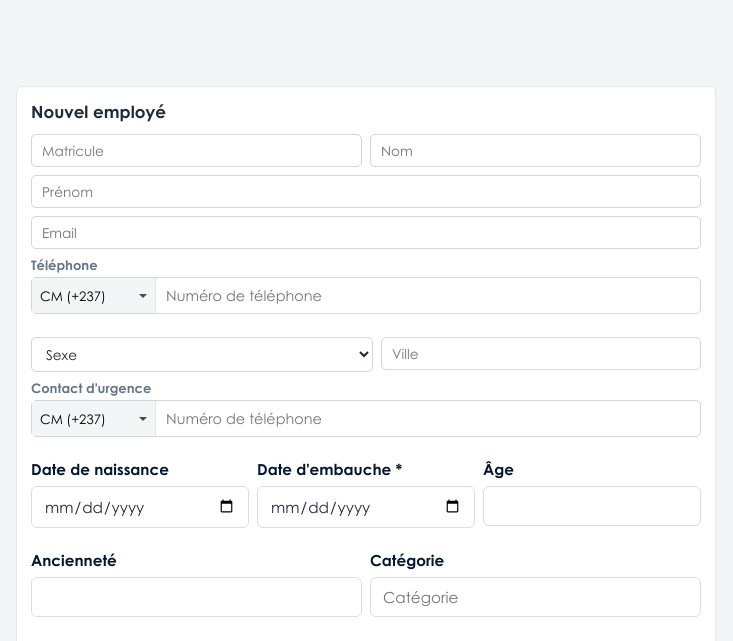
Test case: EmployeeForm › phone country code dropdown shows a short selected label and saves code+space+number
The width and height of the screenshot is (733, 641).
expect the button with aria-label "choisir le code pays" reads "CM (+237)": met, box [32, 278, 156, 313]
Type "699228877" into the field with placeholder "Numéro de téléphone" below "Téléphone" at (428, 296), box [156, 278, 700, 313]
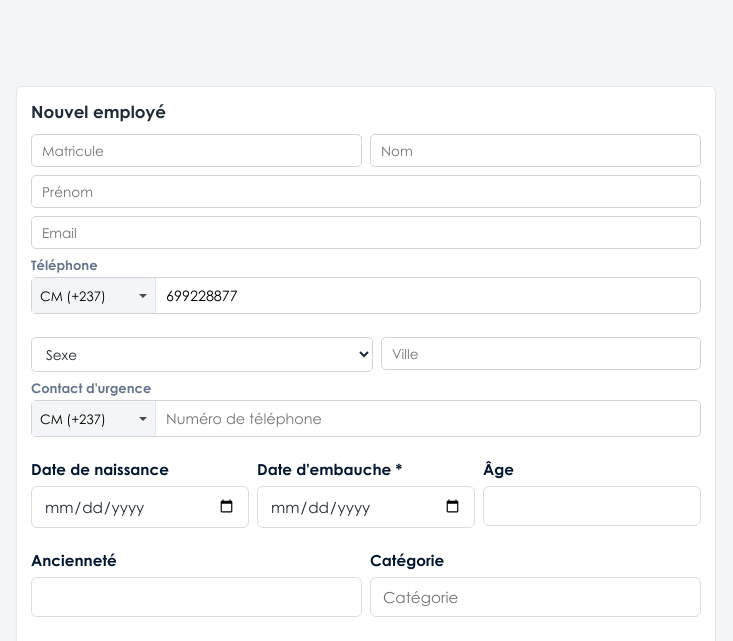
Click the button with aria-label "choisir le code pays" at (94, 296), box [32, 278, 156, 313]
(page scrolled)
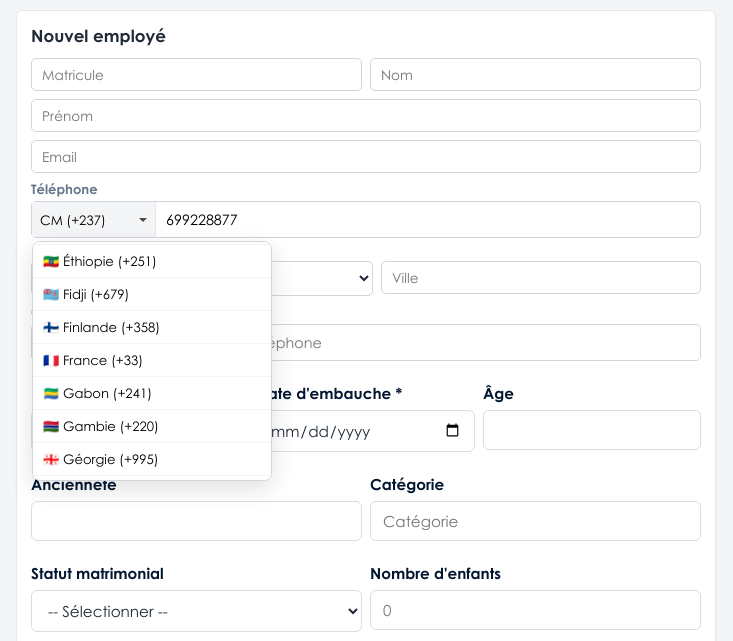
Click the button "🇫🇷 France (+33)" at (152, 360), box [33, 344, 271, 377]
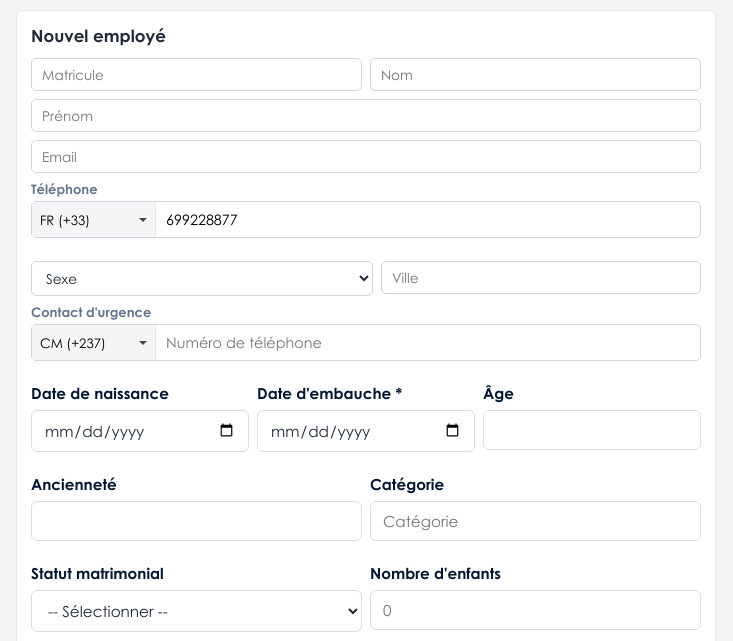
expect the button with aria-label "choisir le code pays" reads "FR (+33)": met, box [32, 202, 156, 237]
